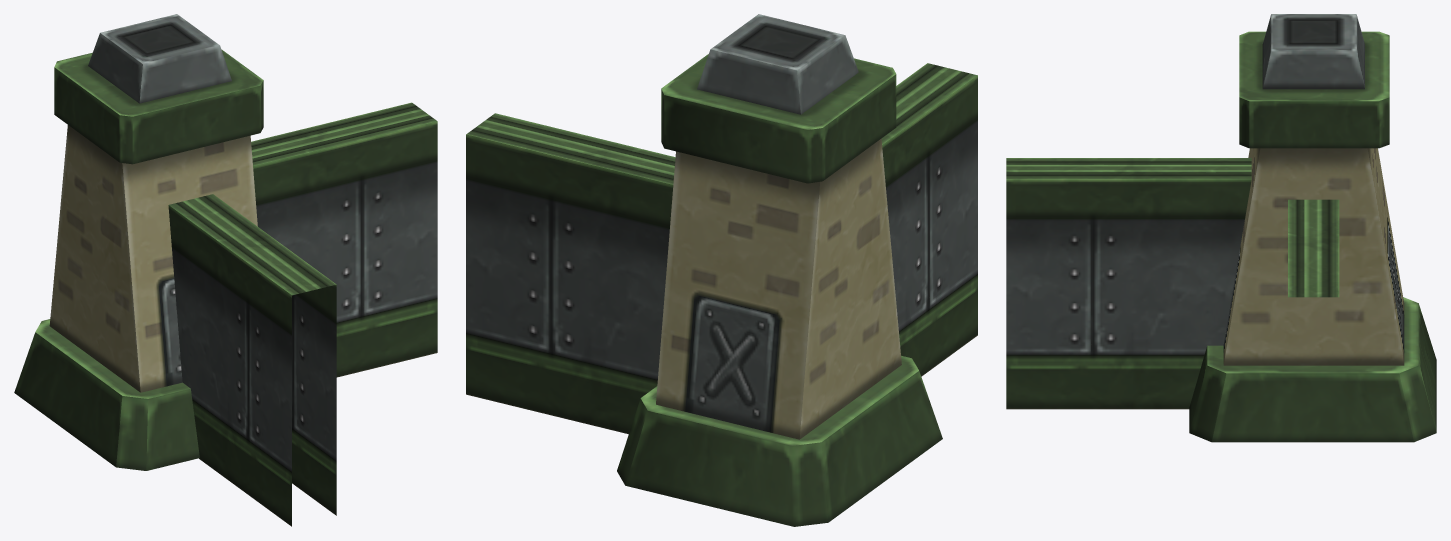
The model's file is wall_04.FBX.
3 views of the same model, side by side, from view 1: azimuth 30°, elevation 25°; view 2: azimuth 150°, elevation 25°; view 3: azimuth 270°, elevation 25° (orthographic). The views are drawn at different scales.
Visible parts, largest first — view 1: wall_04; view 2: wall_04; view 3: wall_04.
Part boxes in pixels (x1,y1,x2,y2): wall_04: (14, 14, 437, 526); wall_04: (466, 14, 977, 526); wall_04: (1006, 14, 1436, 442).
Size of the model in its own units: 454 by 474 by 444.
